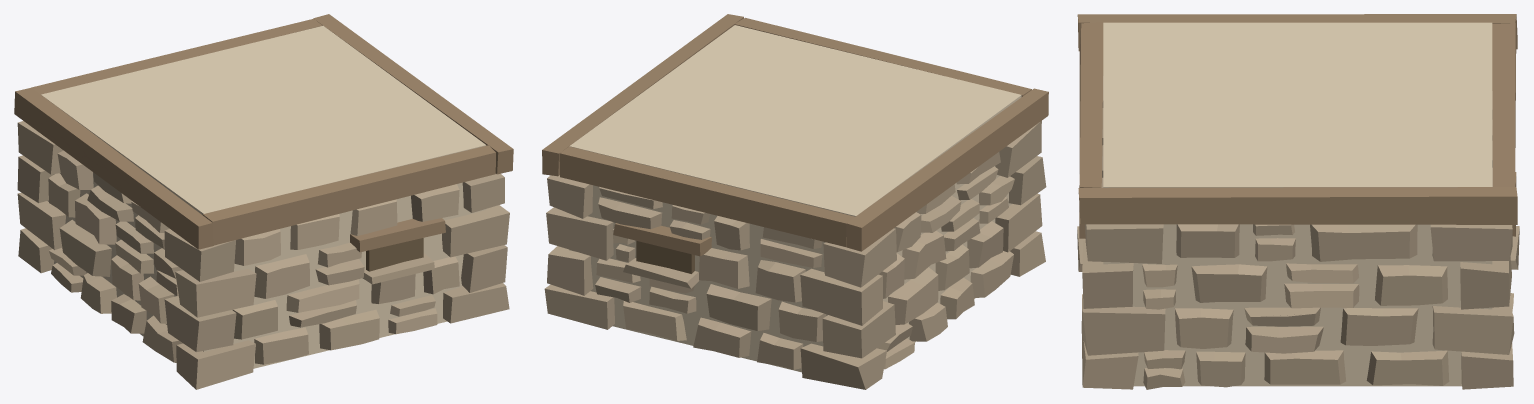
File: building.stoneroom.glb
3 views of the same model, side by side, from view 1: azimuth 30°, elevation 25°; view 2: azimuth 150°, elevation 25°; view 3: azimuth 270°, elevation 25° (orthographic). The views are drawn at different scales.
Visible parts, largest first — view 1: PaintDark, Paint, Wood, Door; view 2: PaintDark, Paint, Wood, Door; view 3: Paint, PaintDark, Wood.
Part boxes in pixels (x1=…): PaintDark: x1=17, y1=121, x2=509, y2=389; Paint: x1=41, y1=25, x2=486, y2=368; Wood: x1=14, y1=14, x2=513, y2=252; Door: x1=366, y1=238, x2=423, y2=271; PaintDark: x1=544, y1=121, x2=1046, y2=389; Paint: x1=569, y1=25, x2=1021, y2=372; Wood: x1=542, y1=14, x2=1048, y2=256; Door: x1=636, y1=241, x2=694, y2=273; Paint: x1=1103, y1=22, x2=1492, y2=386; PaintDark: x1=1077, y1=75, x2=1519, y2=389; Wood: x1=1077, y1=14, x2=1517, y2=238.
Bounding box in the file's own units: 1.98 × 1 × 2.01.
